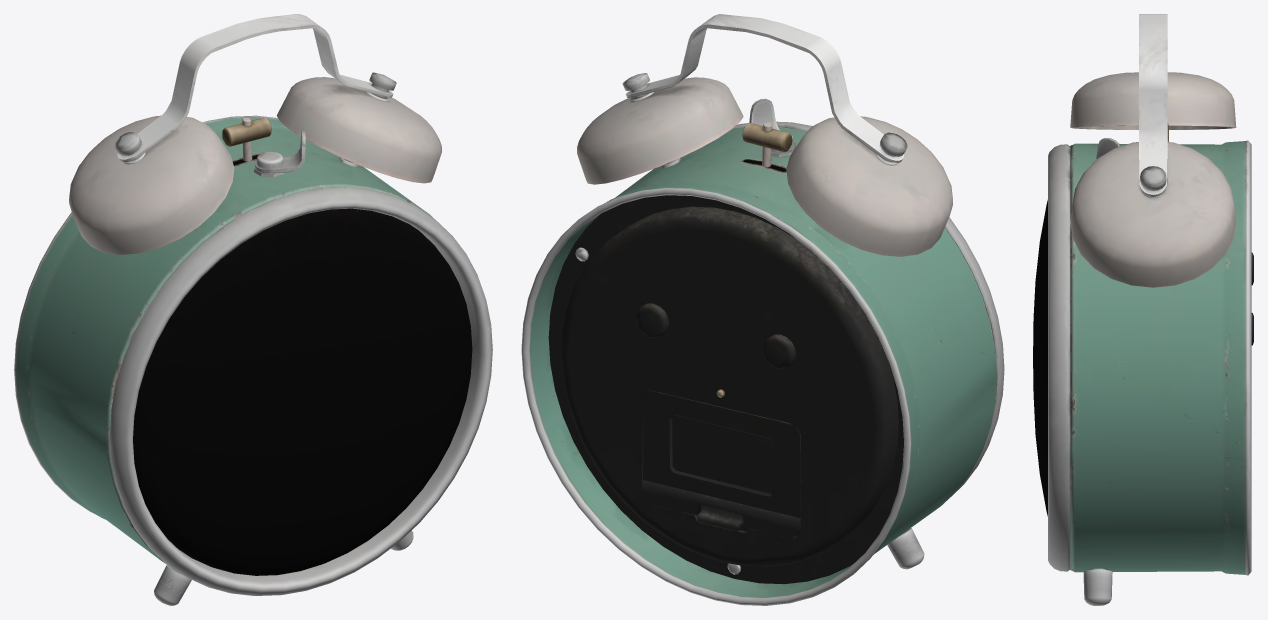
File: alarm_clock_01.glb
3 views of the same model, side by side, from view 1: azimuth 30°, elevation 25°; view 2: azimuth 150°, elevation 25°; view 3: azimuth 270°, elevation 25° (orthographic). The views are drawn at different scales.
Visible parts, largest first — view 1: alarm_clock_01; view 2: alarm_clock_01; view 3: alarm_clock_01.
Boxes of the visible parts, x1,y1,x2,y2 form: alarm_clock_01: [14, 14, 492, 605]; alarm_clock_01: [521, 14, 1004, 605]; alarm_clock_01: [1033, 14, 1253, 605].
Bounding box in the file's own units: 0.1317 × 0.1741 × 0.0667.
Materials: 2 (2 with a texture image).
